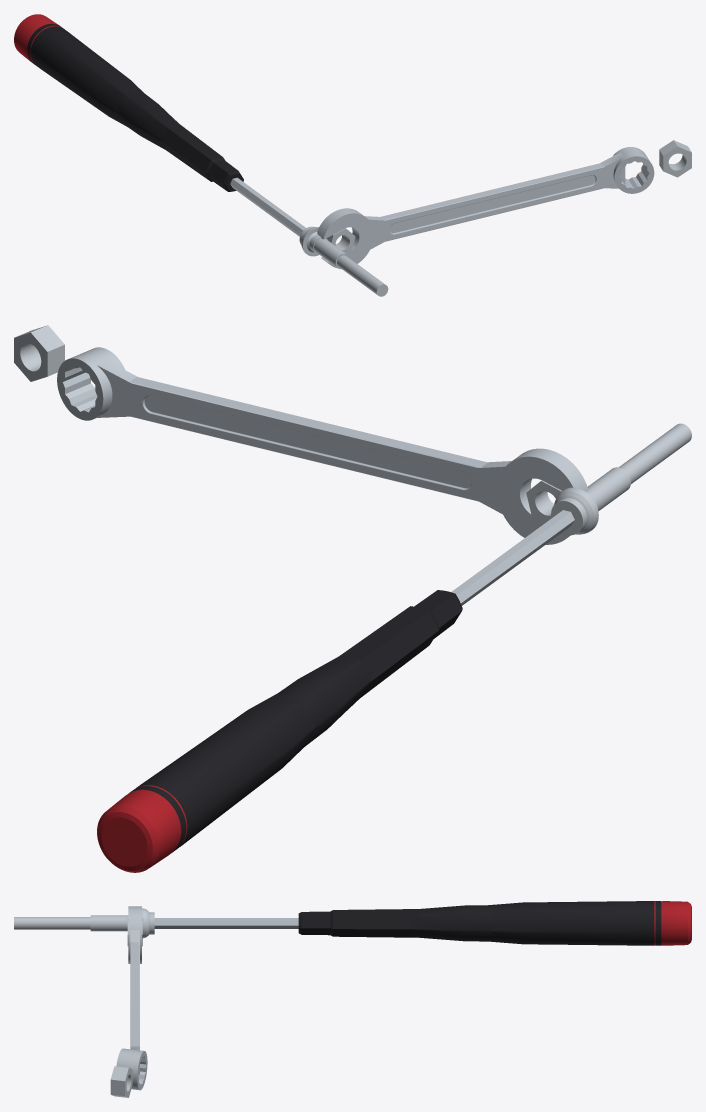
Rendered from fastener_tool_fit_samples.glb.
3 renders of one model, top to bottom at view 1: azimuth 30°, elevation 25°; view 2: azimuth 150°, elevation 25°; view 3: azimuth 270°, elevation 25°, orthographic. The views are drawn at different scales.
Parts seen in each view (by area): view 1: open_jaw__wrench, jack_M3_cap__handle, platform_M3_countersunk__handle, frame_M4_cap__shaft, frame_M4_cap__fastener, bihex_ring__nut, frame_M5_button__shaft, frame_M5_button__fastener, frame_M4_cap__rotating_cap; view 2: open_jaw__wrench, jack_M3_cap__handle, platform_M3_countersunk__handle, frame_M4_cap__rotating_cap, frame_M4_cap__fastener, frame_M4_cap__shaft, bihex_ring__nut, frame_M5_button__shaft, frame_M5_button__fastener, open_jaw__nut; view 3: jack_M3_cap__handle, platform_M3_countersunk__handle, open_jaw__wrench, frame_M4_cap__shaft, frame_M4_cap__rotating_cap, frame_M4_cap__fastener, frame_M5_button__fastener, bihex_ring__nut, frame_M5_button__shaft, frame_M5_button__handle.
Boxes of the visible parts, box(x1,y1,x2,y2) form: open_jaw__wrench: box(317, 147, 654, 268); jack_M3_cap__handle: box(33, 28, 225, 181); platform_M3_countersunk__handle: box(117, 90, 243, 191); frame_M4_cap__shaft: box(230, 178, 305, 235); frame_M4_cap__fastener: box(299, 226, 388, 296); bihex_ring__nut: box(659, 140, 691, 177); frame_M5_button__shaft: box(230, 178, 304, 236); frame_M5_button__fastener: box(301, 227, 349, 269); frame_M4_cap__rotating_cap: box(14, 14, 56, 59); open_jaw__wrench: box(57, 347, 588, 544); jack_M3_cap__handle: box(136, 606, 439, 846); platform_M3_countersunk__handle: box(278, 590, 462, 746); frame_M4_cap__rotating_cap: box(97, 791, 178, 872); frame_M4_cap__fastener: box(551, 423, 691, 535); frame_M4_cap__shaft: box(451, 510, 573, 605); bihex_ring__nut: box(14, 325, 64, 381); frame_M5_button__shaft: box(452, 510, 574, 605); frame_M5_button__fastener: box(554, 467, 630, 534); open_jaw__nut: box(526, 480, 561, 522); jack_M3_cap__handle: box(330, 901, 650, 945); platform_M3_countersunk__handle: box(298, 905, 498, 941); open_jaw__wrench: box(116, 906, 147, 1090); frame_M4_cap__shaft: box(154, 918, 298, 928); frame_M4_cap__rotating_cap: box(665, 901, 691, 945); frame_M4_cap__fastener: box(14, 912, 154, 934); frame_M5_button__fastener: box(90, 908, 149, 938); bihex_ring__nut: box(110, 1066, 132, 1097); frame_M5_button__shaft: box(155, 918, 298, 928); frame_M5_button__handle: box(650, 901, 657, 945).
Bounding box in the file's own units: 0.1336 × 0.018 × 0.2122.
